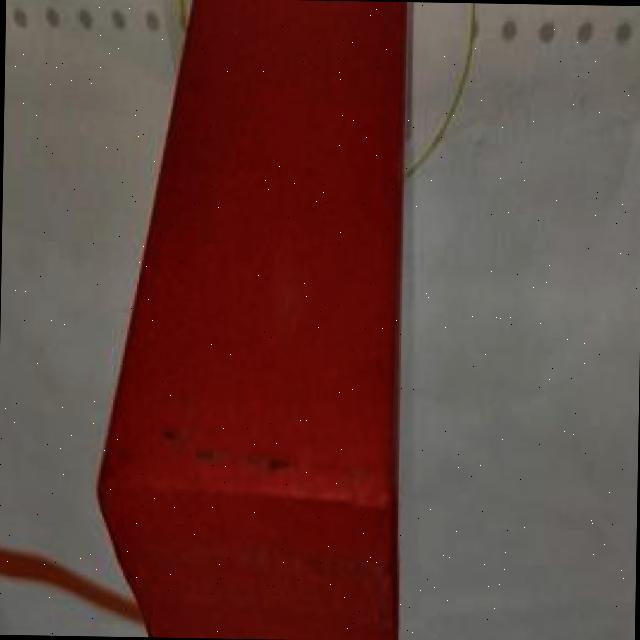redbox: (95, 0, 408, 640)
